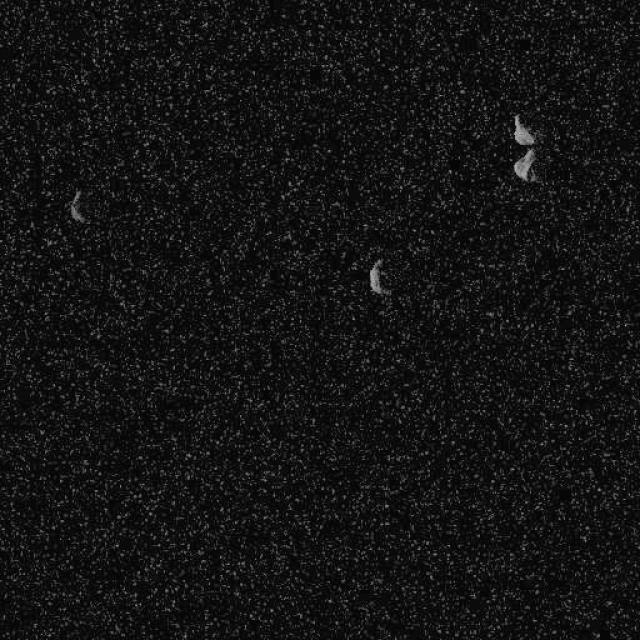D2: (510, 112, 539, 182), (368, 256, 392, 296), (512, 148, 538, 182), (511, 112, 535, 146), (68, 187, 88, 225)
